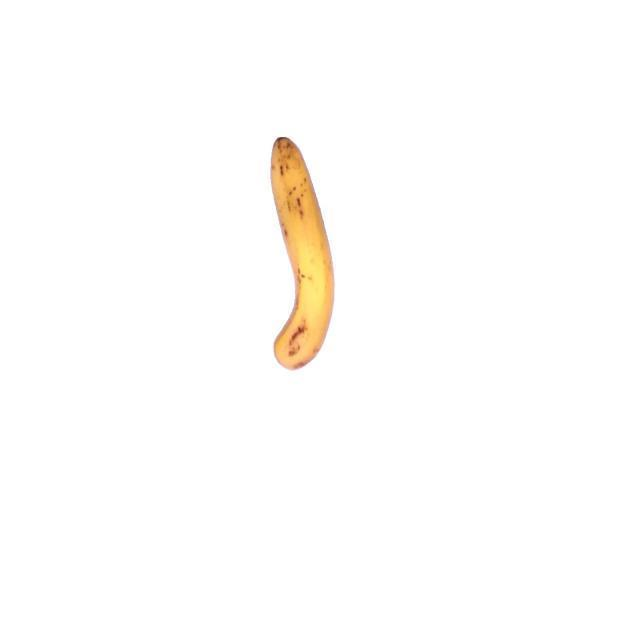Banana: (265, 133, 337, 374)
